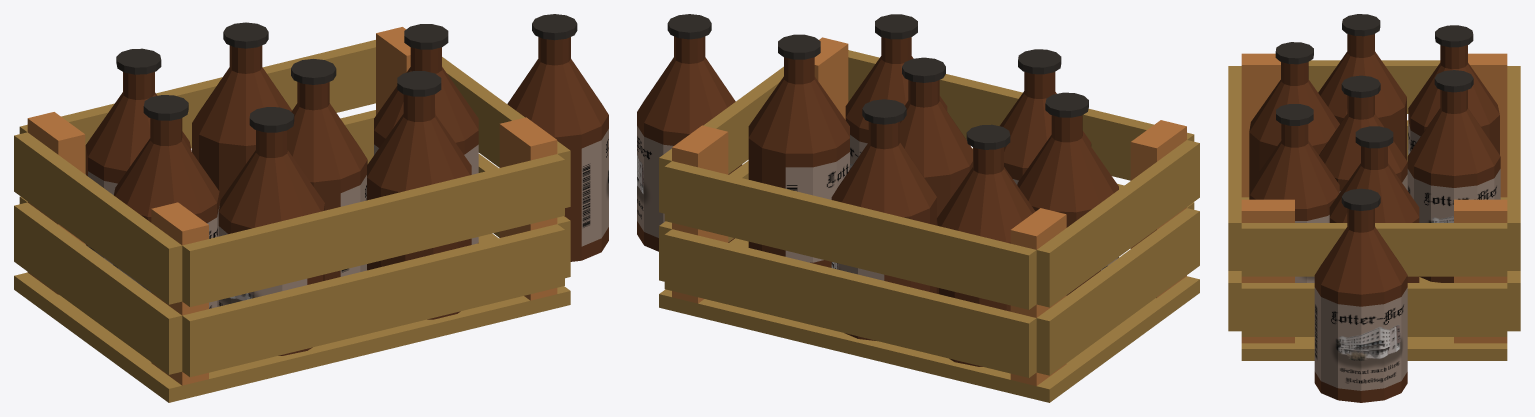
Rendered from lotter-bier.fbx.
The picture shows the model from 3 angles, left to right: view 1: azimuth 30°, elevation 25°; view 2: azimuth 150°, elevation 25°; view 3: azimuth 270°, elevation 25°; orthographic projection. The views are drawn at different scales.
Visible parts, largest first — view 1: Cube, Circle; view 2: Cube, Circle; view 3: Circle, Cube.
Boxes of the visible parts, x1,y1,x2,y2 form: Cube: (14, 27, 570, 402); Circle: (85, 14, 608, 355); Cube: (659, 37, 1199, 402); Circle: (637, 14, 1118, 366); Circle: (1249, 14, 1500, 402); Cube: (1228, 53, 1520, 360).
Bounding box in the file's own units: 3.75 × 1.65 × 2.2.
2 materials, 2 textured.
